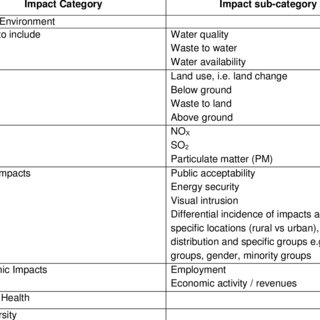fracking table: (1, 1, 320, 319)
